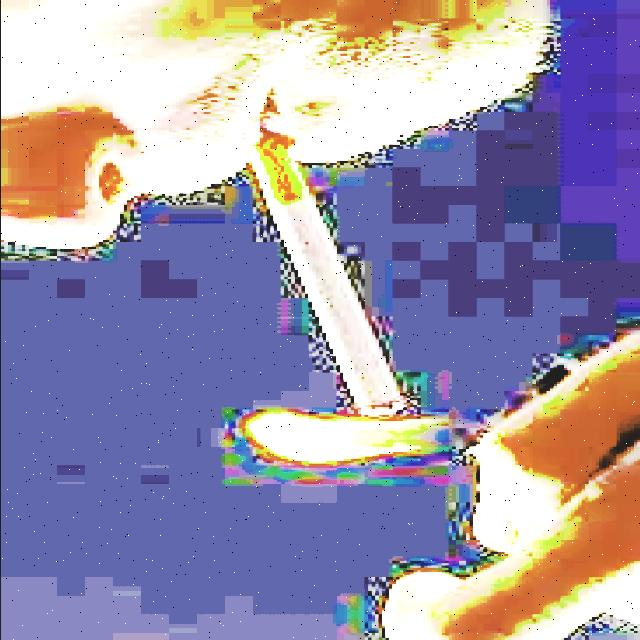api: (232, 385, 463, 469)
